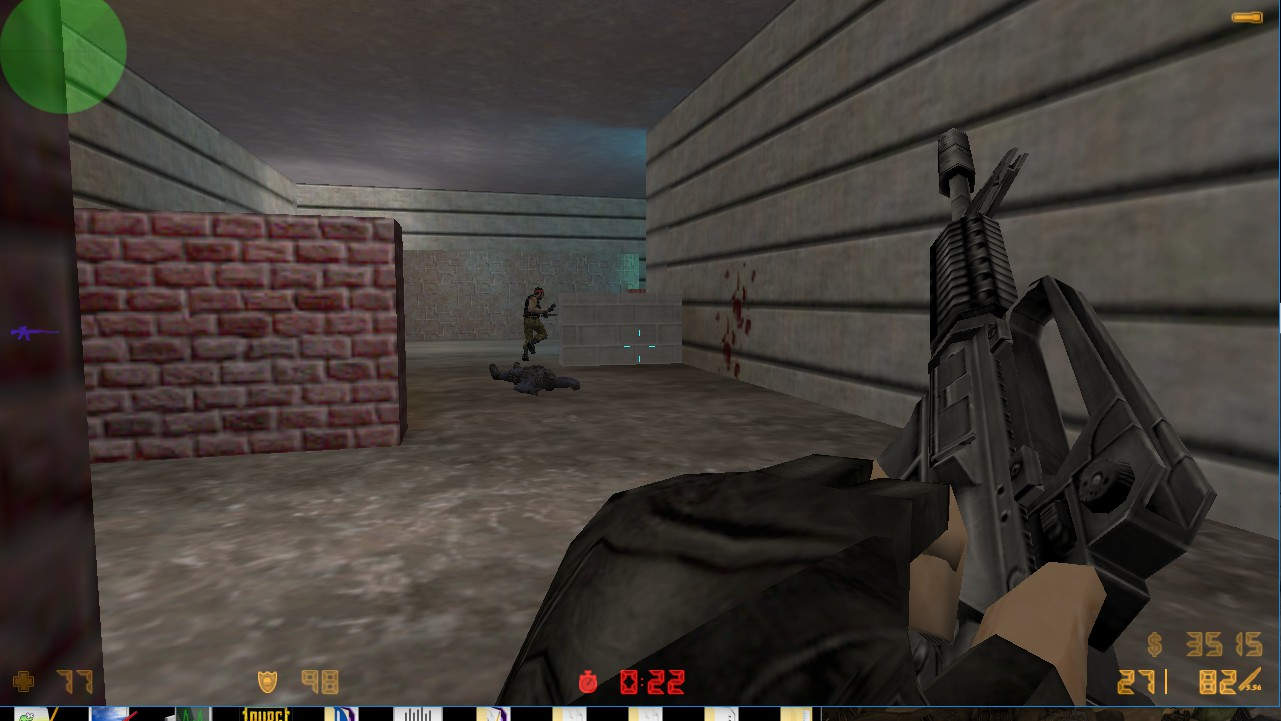person: (520, 285, 552, 359)
